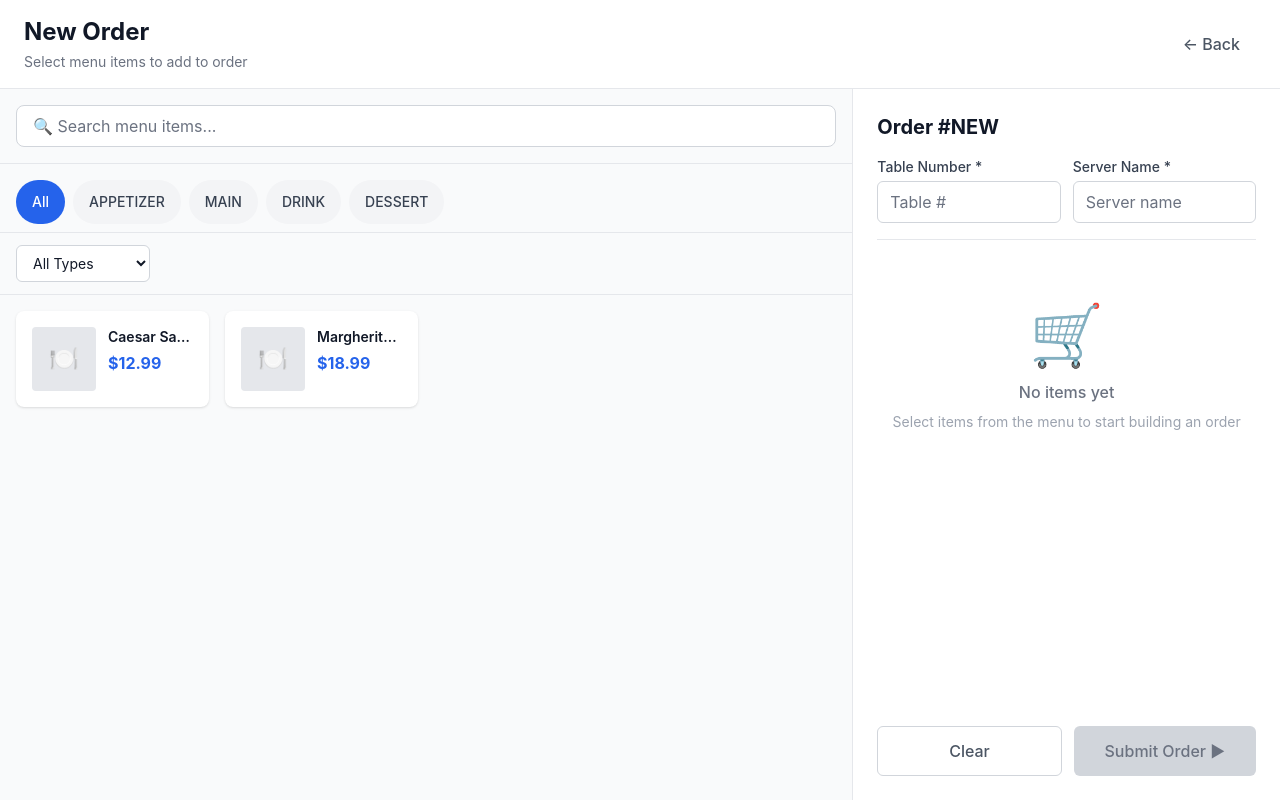
NewOrderPage › clicking menu item adds to order context
Check: the text "No items yet" is shown, box [1019,380,1114,404]
What coordinates should you click on to do the following:
click the button "🍽️ Caesar Salad $12.99"
I would click on:
 (113, 359)
Its box is [16,311,209,407].
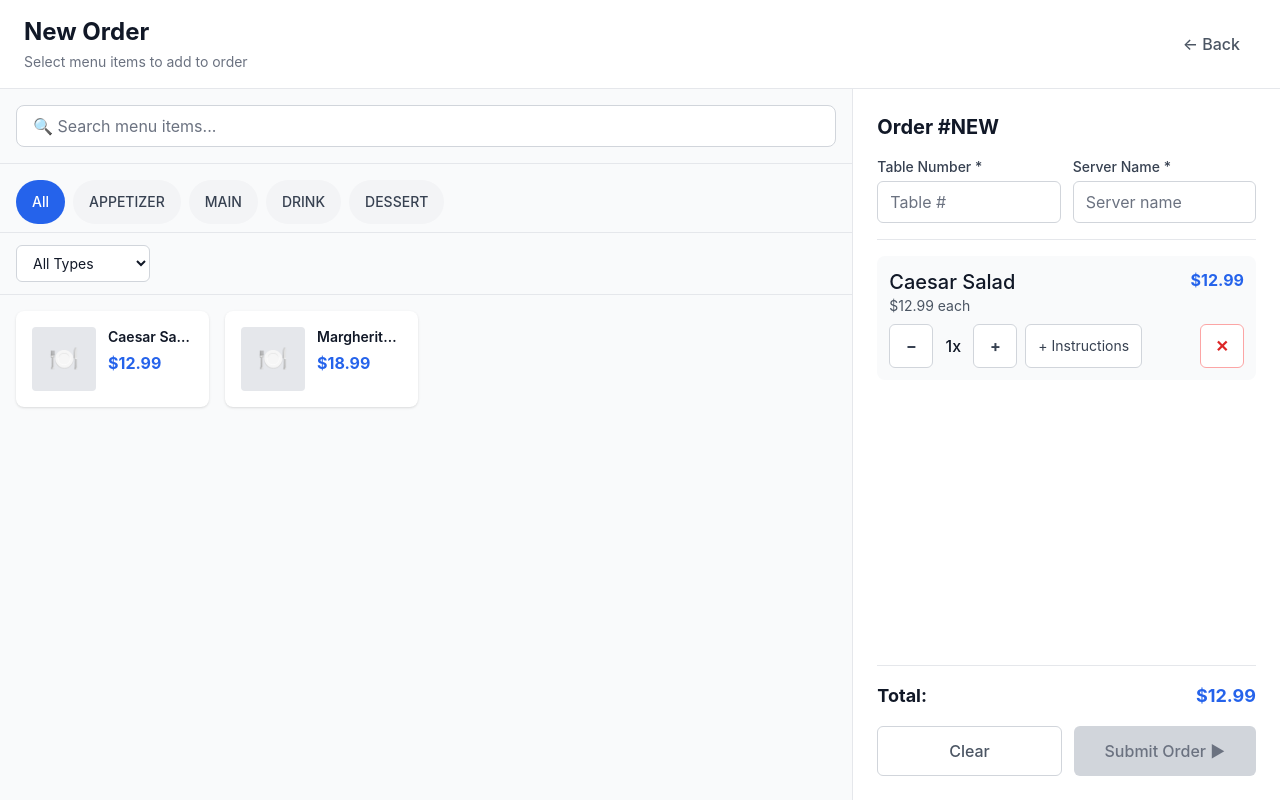
Check: the text "1x" is shown, box [946,336,961,356]
Check: the text "$12.99 each" is shown, box [889,297,970,314]
Check: the text "Total:" is shown, box [877,682,927,710]
